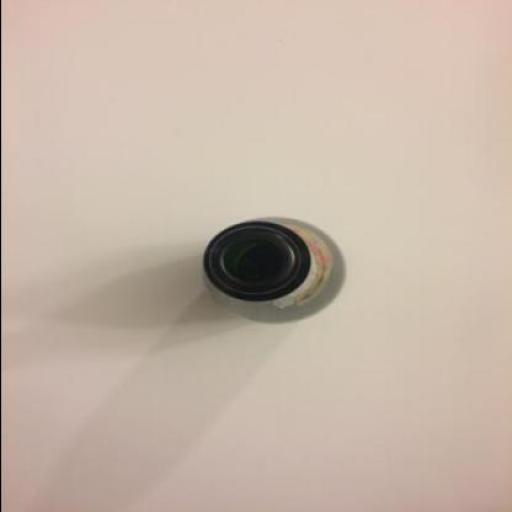glass: (202, 215, 346, 323)
